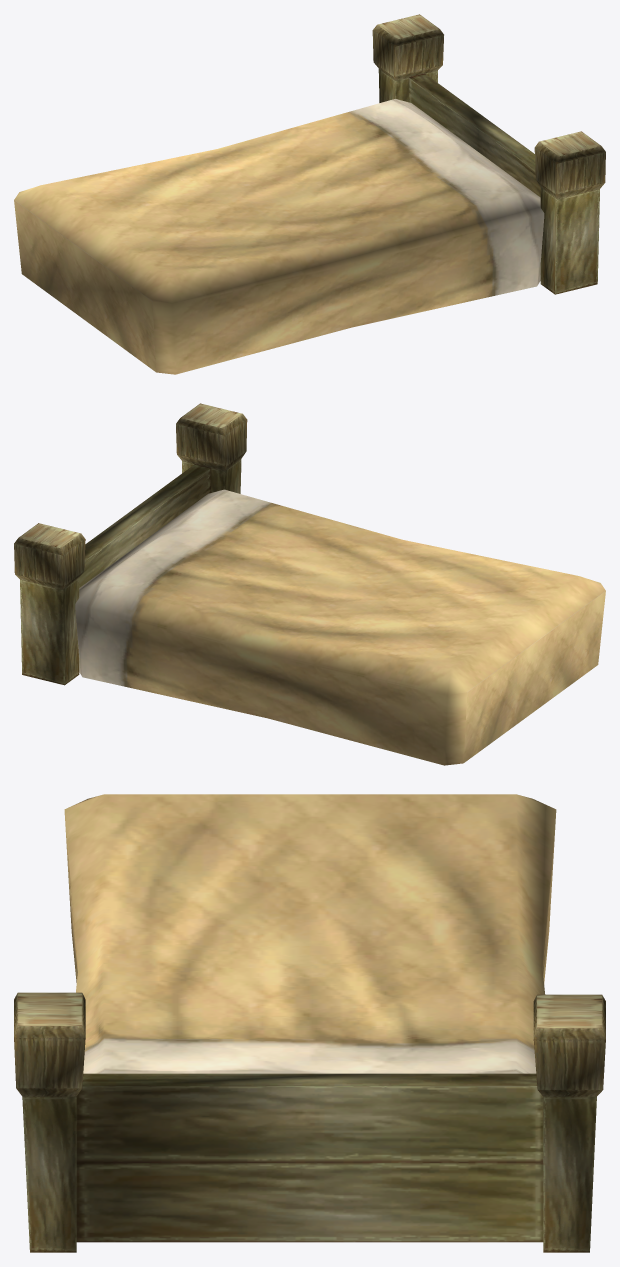
File: duskwoodbed.obj
3 renders of one model, top to bottom at view 1: azimuth 30°, elevation 25°; view 2: azimuth 150°, elevation 25°; view 3: azimuth 270°, elevation 25°, orthographic. The views are drawn at different scales.
Parts seen in each view (by area): view 1: duskwoodbed1, duskwoodbed0; view 2: duskwoodbed1, duskwoodbed0; view 3: duskwoodbed1, duskwoodbed0.
Boxes of the visible parts, x1,y1,x2,y2 form: duskwoodbed1: (14, 99, 544, 374); duskwoodbed0: (372, 14, 605, 294); duskwoodbed1: (75, 489, 605, 765); duskwoodbed0: (14, 403, 247, 685); duskwoodbed1: (64, 794, 556, 1073); duskwoodbed0: (14, 992, 605, 1252).
Bounding box in the file's own units: 4.82 × 1.51 × 3.57.
2 materials, 2 textured.
